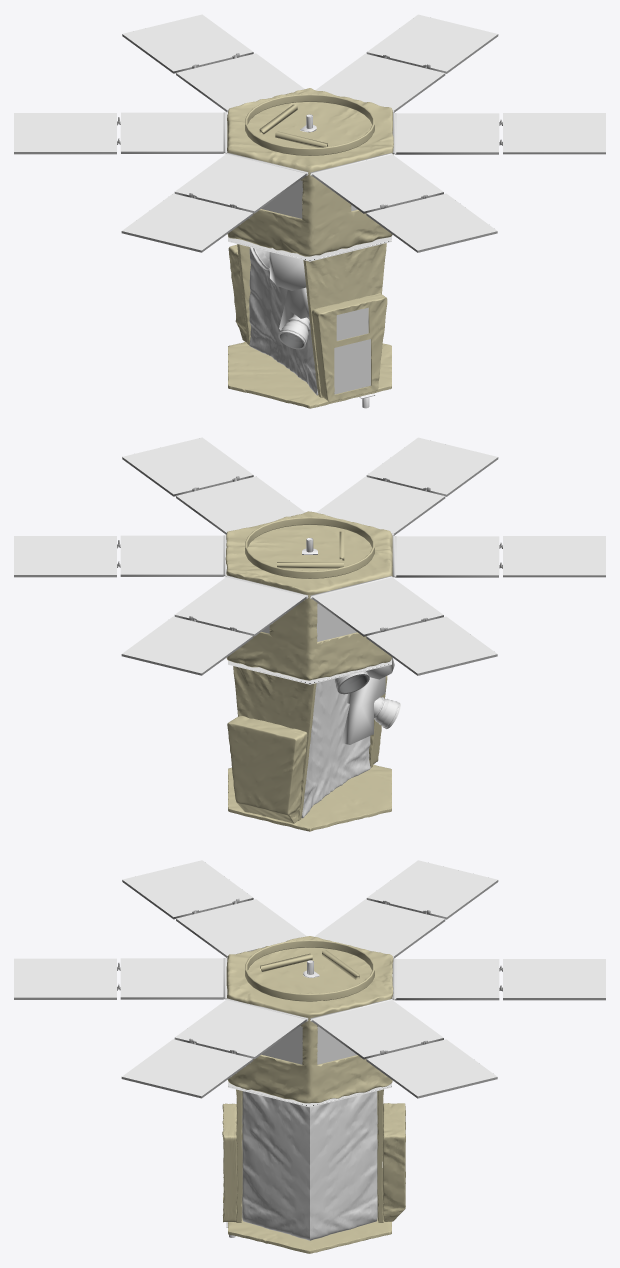
Rendered from Solar Radiation and Climate Experiment (SORCE).glb.
The picture shows the model from 3 angles, top to bottom: view 1: azimuth 30°, elevation 25°; view 2: azimuth 150°, elevation 25°; view 3: azimuth 270°, elevation 25°; orthographic projection.
Parts seen in each view (by area): view 1: SORCE_vFINAL [Layer11], SORCE_vFINAL [Layer1], SORCE_vFINAL [Layer10], SORCE_vFINAL [Layer3], SORCE_vFINAL [Layer8], SORCE_vFINAL [Layer5], SORCE_vFINAL [Layer15], SORCE_vFINAL [Layer12], SORCE_vFINAL [Layer7], SORCE_vFINAL [Layer9], SORCE_vFINAL [Layer6], SORCE_vFINAL [Layer4] (+1 smaller); view 2: SORCE_vFINAL [Layer11], SORCE_vFINAL [Layer1], SORCE_vFINAL [Layer4], SORCE_vFINAL [Layer10], SORCE_vFINAL [Layer2], SORCE_vFINAL [Layer8], SORCE_vFINAL [Layer15], SORCE_vFINAL [Layer9], SORCE_vFINAL [Layer7], SORCE_vFINAL [Layer6], SORCE_vFINAL [Layer12]; view 3: SORCE_vFINAL [Layer11], SORCE_vFINAL [Layer1], SORCE_vFINAL [Layer6], SORCE_vFINAL [Layer7], SORCE_vFINAL [Layer15], SORCE_vFINAL [Layer9], SORCE_vFINAL [Layer4], SORCE_vFINAL [Layer8], SORCE_vFINAL [Layer5], SORCE_vFINAL [Layer12], SORCE_vFINAL [Layer10], SORCE_vFINAL [Layer2] (+1 smaller).
Boxes of the visible parts, x1,y1,x2,y2 form: SORCE_vFINAL [Layer11]: [14, 14, 605, 250]; SORCE_vFINAL [Layer1]: [227, 88, 393, 256]; SORCE_vFINAL [Layer10]: [223, 110, 396, 408]; SORCE_vFINAL [Layer3]: [303, 243, 386, 397]; SORCE_vFINAL [Layer8]: [228, 342, 391, 408]; SORCE_vFINAL [Layer5]: [312, 293, 387, 402]; SORCE_vFINAL [Layer15]: [14, 34, 605, 252]; SORCE_vFINAL [Layer12]: [261, 180, 370, 394]; SORCE_vFINAL [Layer7]: [249, 248, 289, 368]; SORCE_vFINAL [Layer9]: [245, 94, 374, 155]; SORCE_vFINAL [Layer6]: [289, 317, 318, 395]; SORCE_vFINAL [Layer4]: [228, 244, 246, 342]; SORCE_vFINAL [Layer11]: [14, 437, 605, 673]; SORCE_vFINAL [Layer1]: [225, 511, 392, 680]; SORCE_vFINAL [Layer4]: [227, 716, 307, 823]; SORCE_vFINAL [Layer10]: [223, 533, 400, 744]; SORCE_vFINAL [Layer2]: [233, 666, 316, 820]; SORCE_vFINAL [Layer8]: [228, 764, 391, 831]; SORCE_vFINAL [Layer15]: [14, 457, 605, 675]; SORCE_vFINAL [Layer9]: [245, 517, 374, 578]; SORCE_vFINAL [Layer7]: [301, 680, 330, 818]; SORCE_vFINAL [Layer6]: [330, 679, 370, 791]; SORCE_vFINAL [Layer12]: [262, 603, 356, 641]; SORCE_vFINAL [Layer11]: [14, 860, 605, 1096]; SORCE_vFINAL [Layer1]: [226, 936, 393, 1103]; SORCE_vFINAL [Layer6]: [242, 1091, 309, 1240]; SORCE_vFINAL [Layer7]: [310, 1091, 377, 1240]; SORCE_vFINAL [Layer15]: [14, 880, 605, 1098]; SORCE_vFINAL [Layer9]: [245, 940, 374, 1001]; SORCE_vFINAL [Layer4]: [382, 1103, 405, 1221]; SORCE_vFINAL [Layer8]: [228, 1218, 391, 1253]; SORCE_vFINAL [Layer5]: [222, 1103, 237, 1222]; SORCE_vFINAL [Layer12]: [261, 1026, 356, 1064]; SORCE_vFINAL [Layer10]: [223, 947, 396, 1237]; SORCE_vFINAL [Layer2]: [377, 1089, 383, 1222].
Size of the model in its own units: 230 by 121 by 243.
